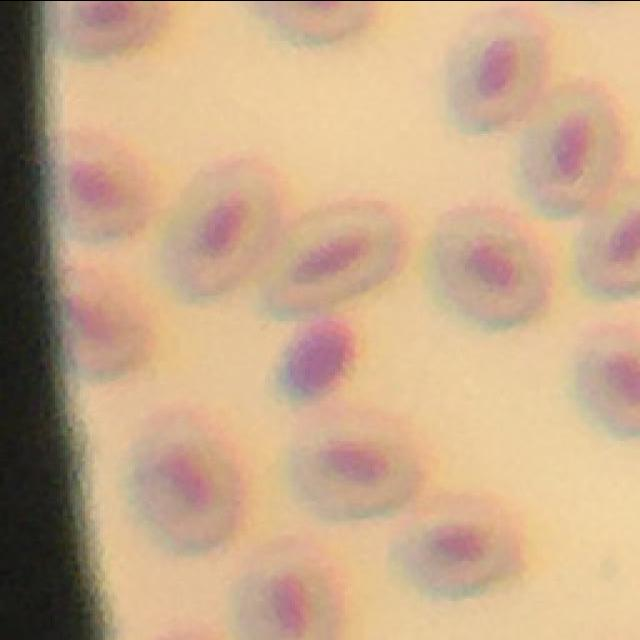RBC: (120, 400, 243, 558), (262, 196, 417, 321), (158, 151, 283, 304), (284, 404, 427, 520), (512, 77, 624, 221), (428, 202, 552, 332), (384, 494, 529, 599), (221, 528, 353, 640), (440, 9, 549, 134), (56, 121, 162, 244), (58, 261, 160, 385), (562, 321, 640, 441), (571, 179, 640, 305), (55, 0, 173, 60)
WBC: (273, 317, 357, 401)
